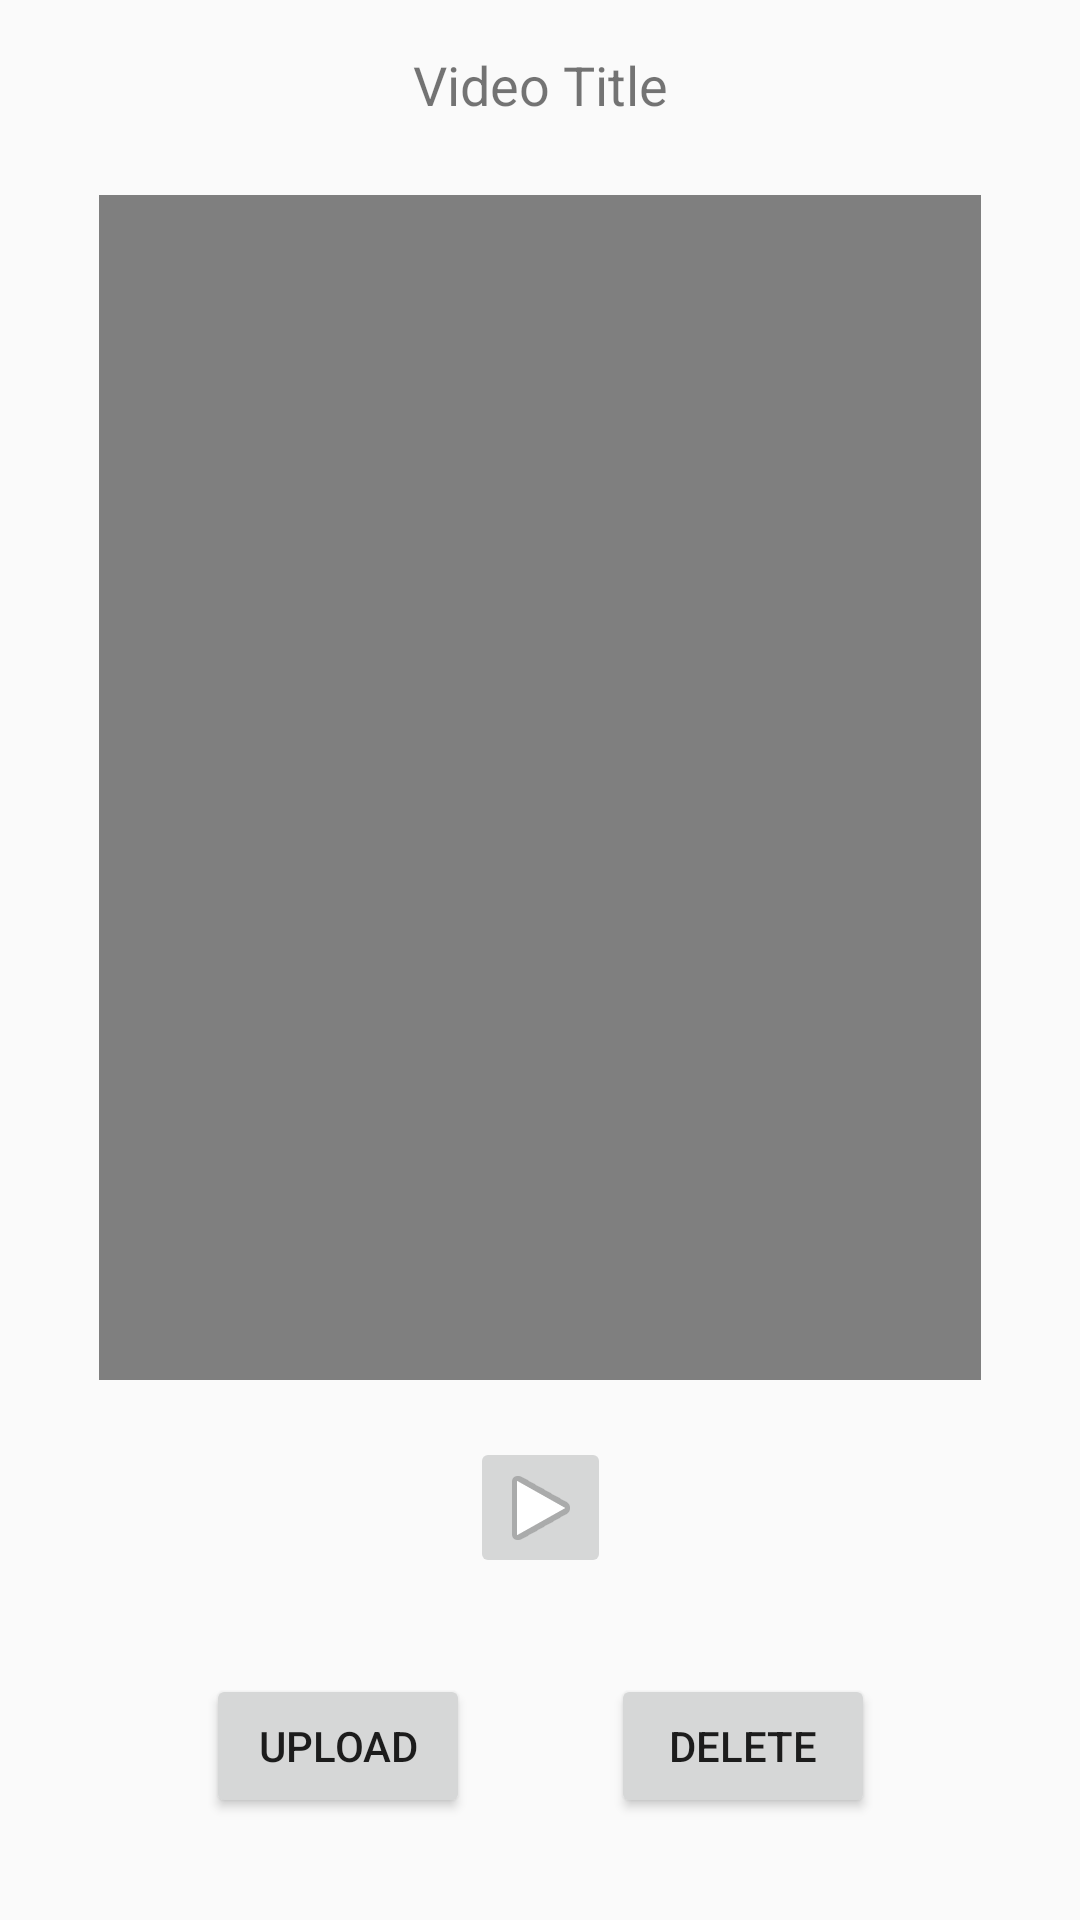

Named icons in this screenshot (1080x1920) and their centers, (x,y):
play: (540,1507)
